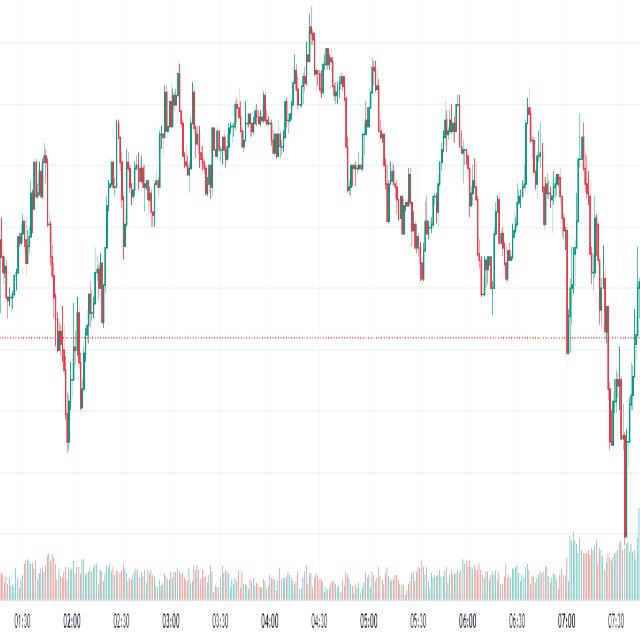Descending-Triangle: (98, 60, 170, 222)
Double-Bottom: (54, 288, 97, 452)
Head-Shoulders: (278, 7, 349, 204)
rectangle: (411, 87, 617, 304)
